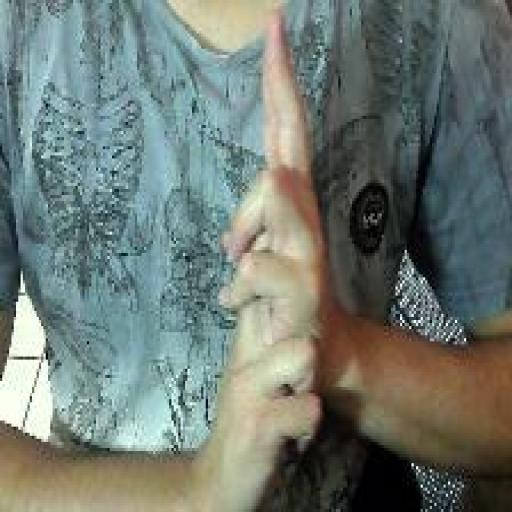Hitsuji -ram-: (210, 3, 332, 509)
